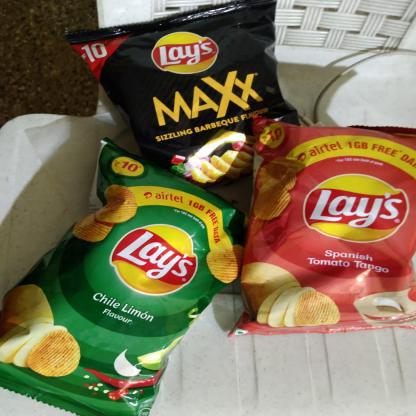chile_limon: (0, 160, 245, 415)
maxx_sizzling_barbeque: (71, 0, 280, 140)
tangy_tomato: (266, 126, 415, 319)
